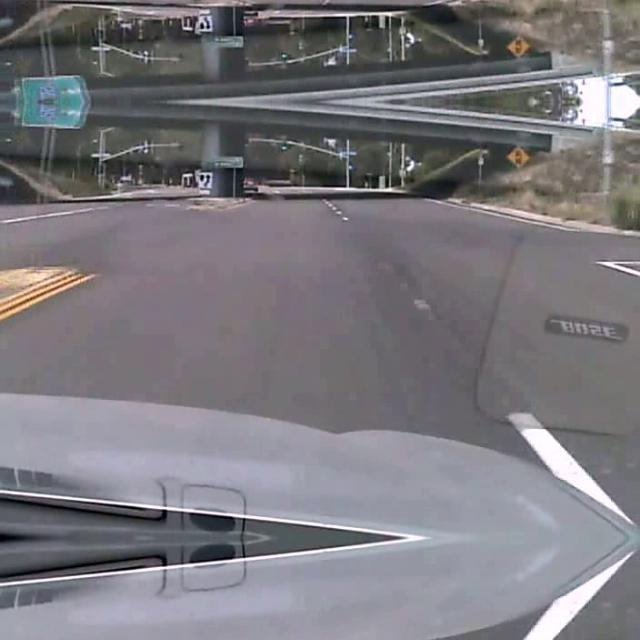signalAhead: (505, 144, 529, 166), (505, 36, 529, 58)
